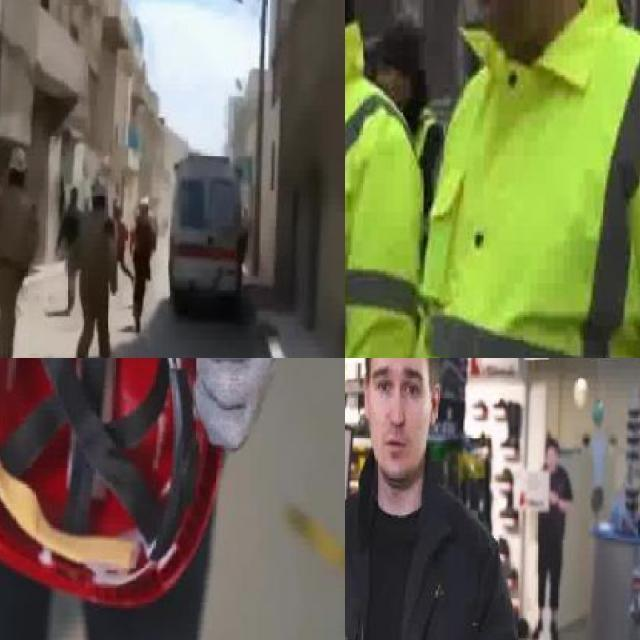apron: (178, 358, 283, 458)
